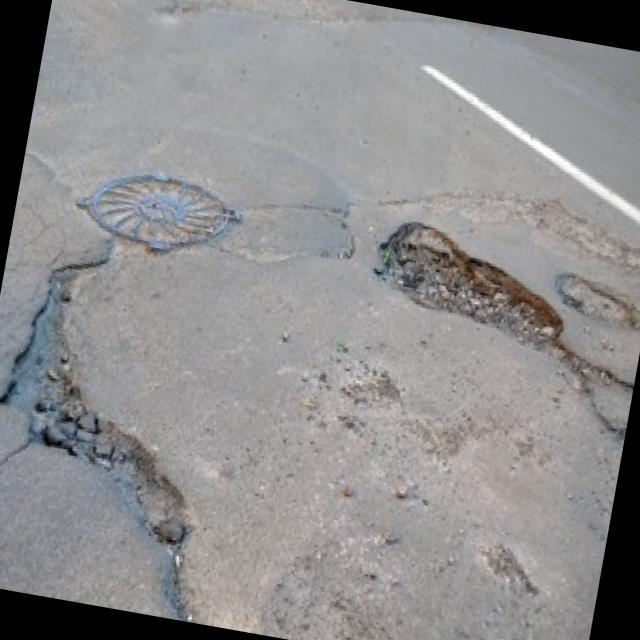Pothole: (0, 247, 235, 552), (364, 214, 578, 362), (551, 270, 639, 334)
